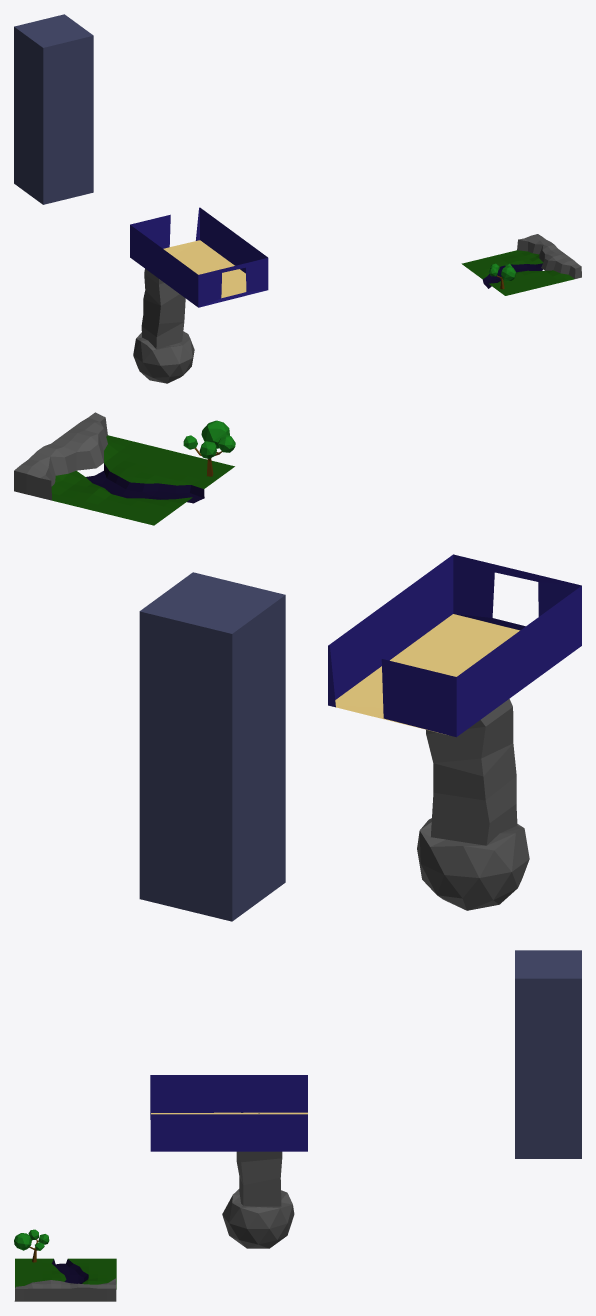
Rendered from threeJsScenePotato.glb.
3 renders of one model, top to bottom at view 1: azimuth 30°, elevation 25°; view 2: azimuth 150°, elevation 25°; view 3: azimuth 270°, elevation 25°, orthographic. The views are drawn at different scales.
Parts seen in each view (by area): view 1: Experience and projects, Main Menu, Education, Skill island; view 2: Experience and projects, Main Menu, Education, Skill island, Tree; view 3: Experience and projects, Main Menu, Education, Skill island, Tree.
Boxes of the visible parts, x1,y1,x2,y2 form: Experience and projects: (14, 14, 93, 204); Main Menu: (130, 207, 268, 307); Education: (133, 269, 194, 383); Skill island: (461, 234, 581, 295); Experience and projects: (139, 572, 285, 921); Main Menu: (328, 554, 581, 737); Education: (417, 699, 529, 910); Skill island: (14, 412, 234, 525); Tree: (183, 420, 235, 476); Experience and projects: (515, 950, 581, 1158); Main Menu: (150, 1075, 307, 1151); Education: (222, 1112, 294, 1248); Skill island: (14, 1258, 116, 1301); Tree: (14, 1229, 49, 1262).
Bounding box in the file's own units: 140 × 100 × 177.
Materials: 7 (1 with a texture image).
